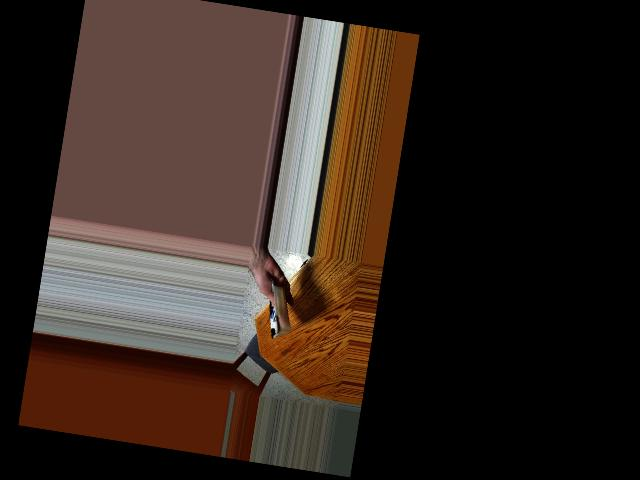cheese: (251, 282, 302, 339)
